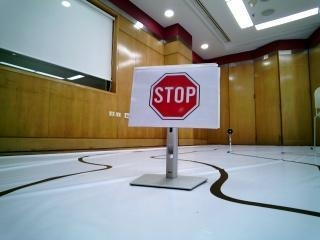stop: (141, 66, 209, 120)
